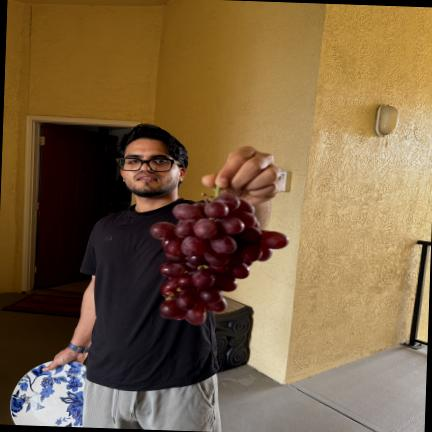grape_cluster: (150, 194, 288, 325), (215, 187, 219, 194)
